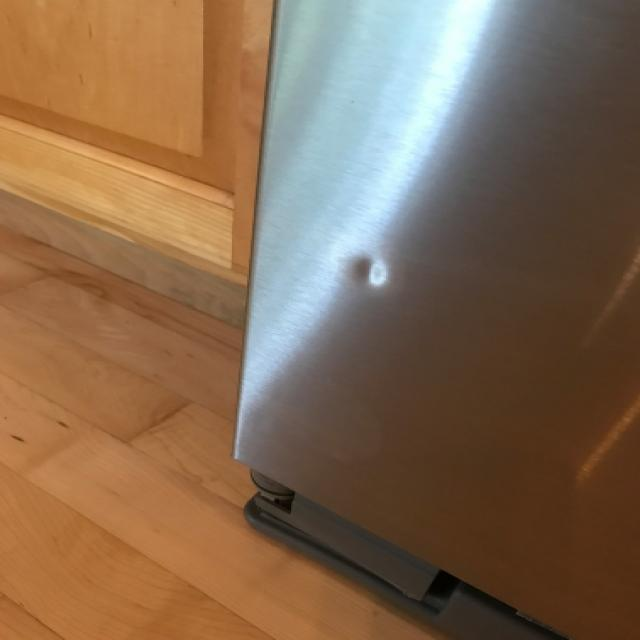dents: (345, 248, 393, 296)
